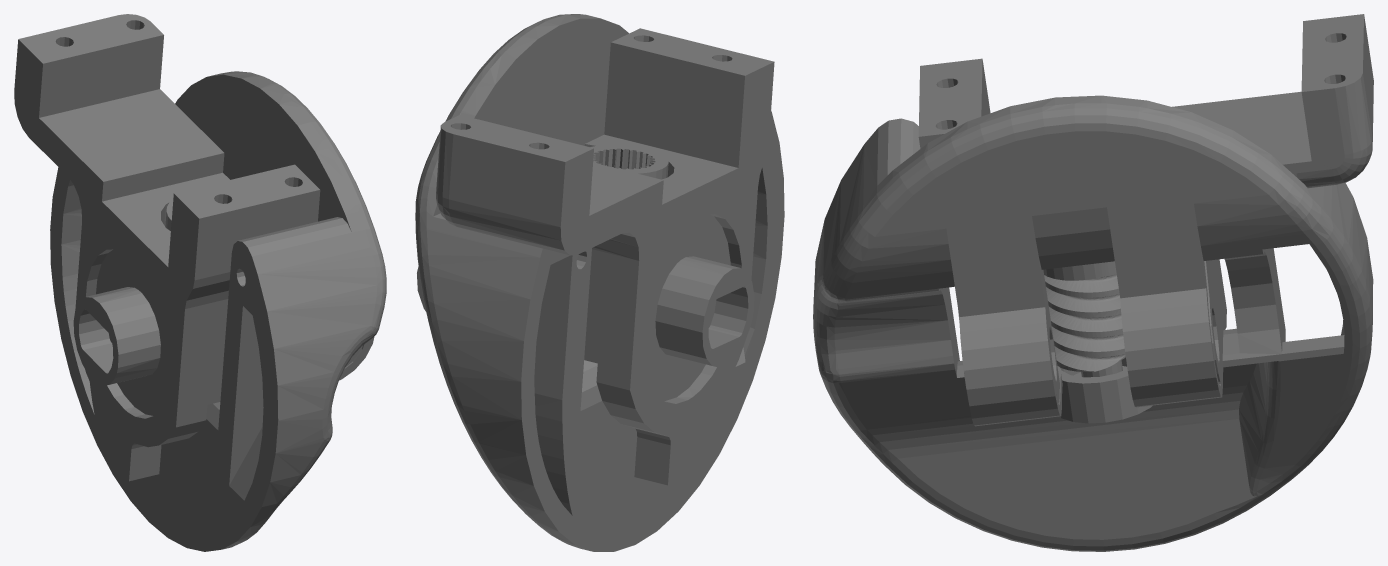
The model's file is lh_thumb_metacarpals_base1_vis.obj.
3 views of the same model, side by side, from view 1: azimuth 30°, elevation 25°; view 2: azimuth 150°, elevation 25°; view 3: azimuth 270°, elevation 25° (orthographic). The views are drawn at different scales.
Parts seen in each view (by area): view 1: lh_thumb_metacarpals_base1; view 2: lh_thumb_metacarpals_base1; view 3: lh_thumb_metacarpals_base1.
Boxes of the visible parts, x1,y1,x2,y2 form: lh_thumb_metacarpals_base1: (14, 14, 386, 551); lh_thumb_metacarpals_base1: (415, 14, 784, 551); lh_thumb_metacarpals_base1: (813, 14, 1373, 551).
Size of the model in its own units: 0.0228 by 0.0402 by 0.0401.
1 material, 1 textured.
